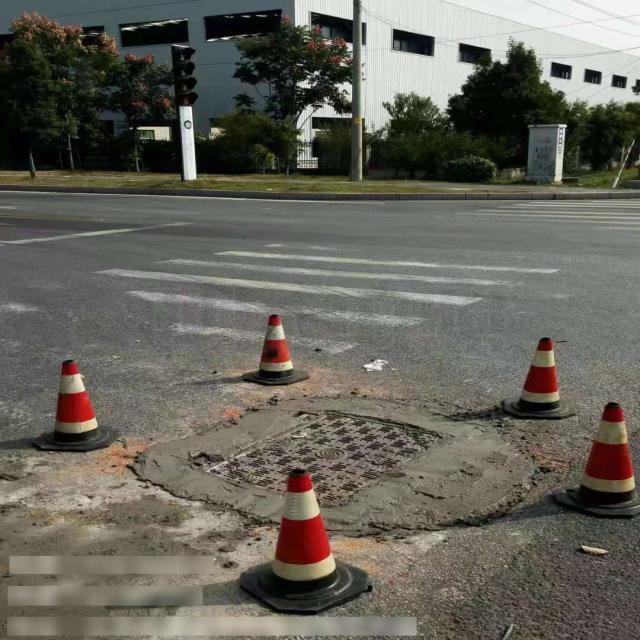Good: (180, 406, 457, 505)
